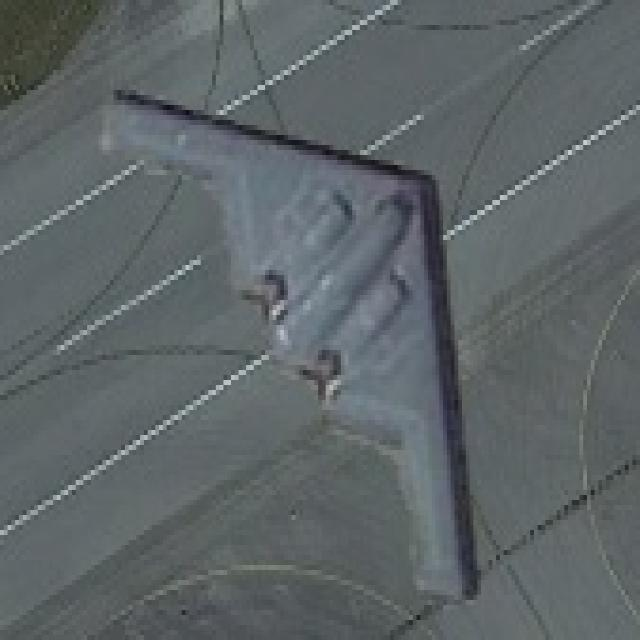B-2_TopDown: (99, 75, 488, 605)
